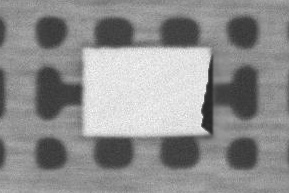DIE_BROKEN: (198, 53, 214, 134)
